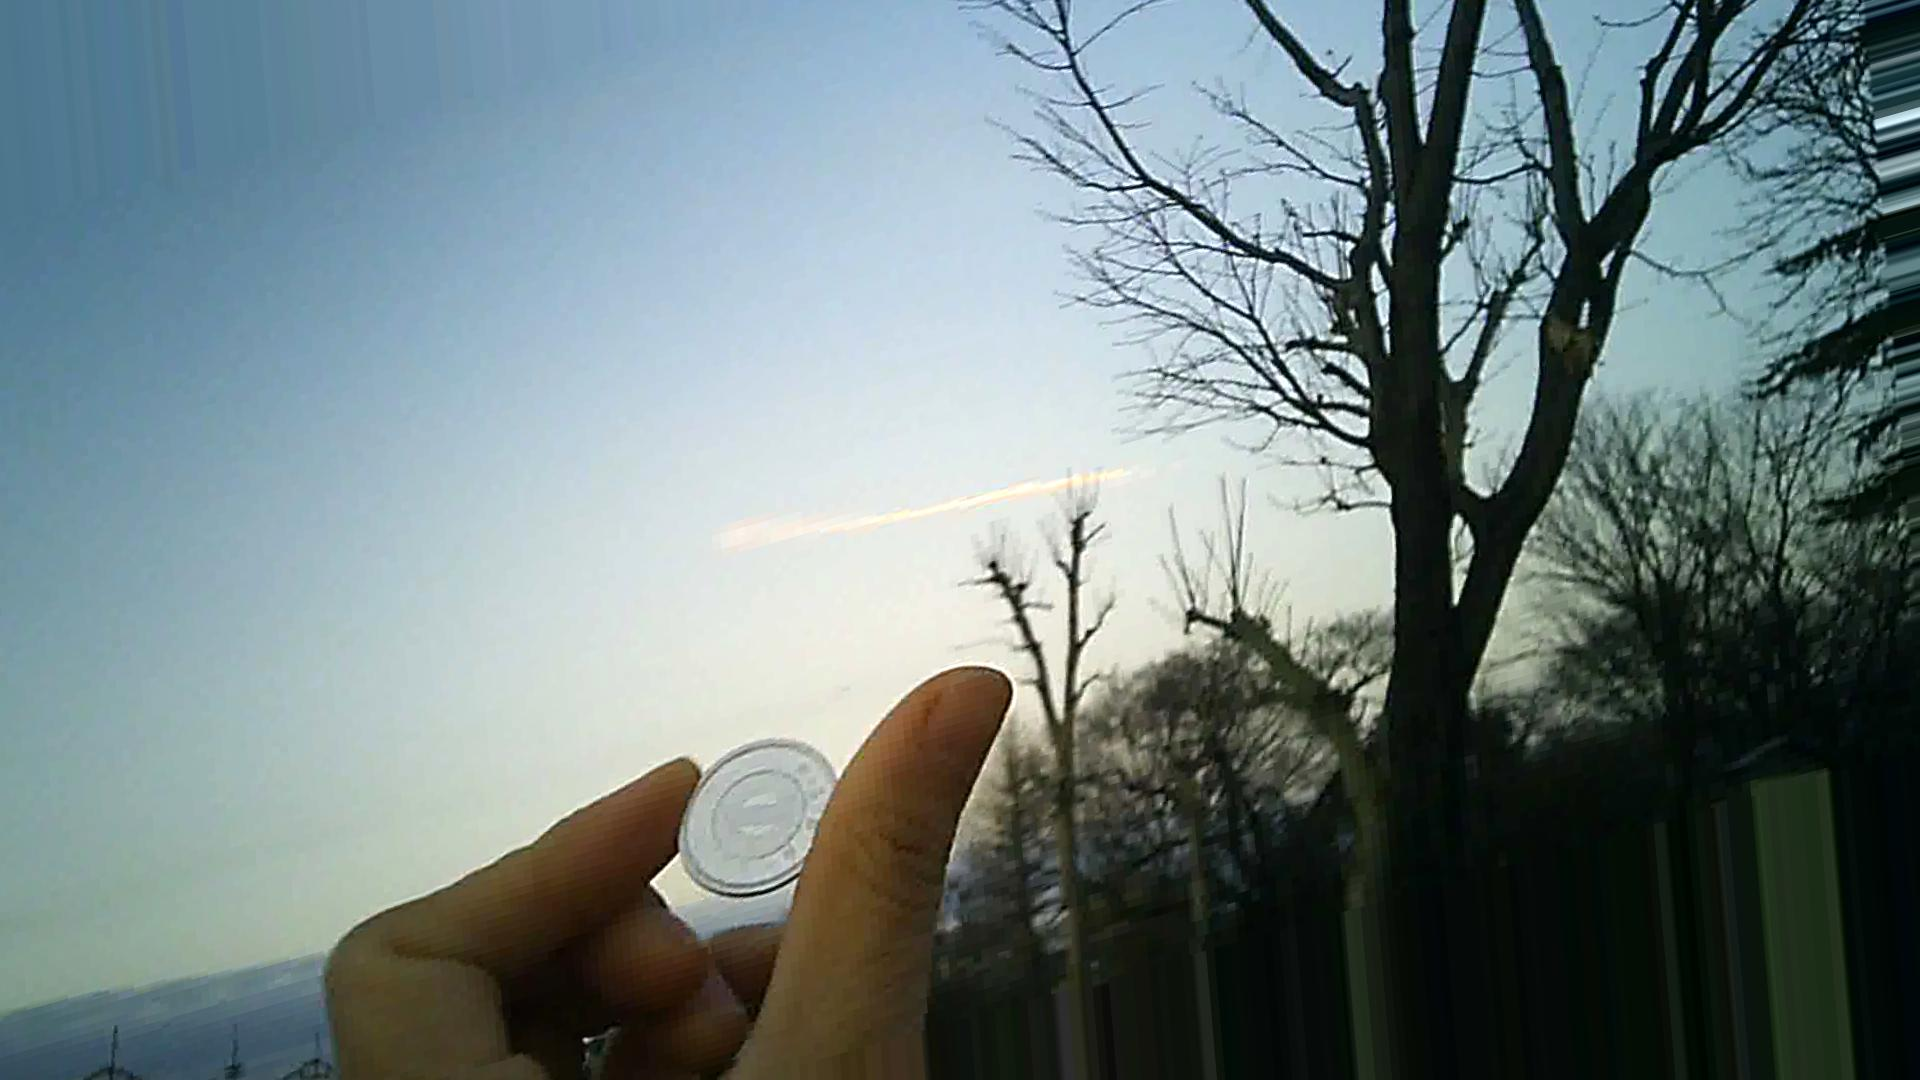1 Yen: (666, 736, 841, 902)
